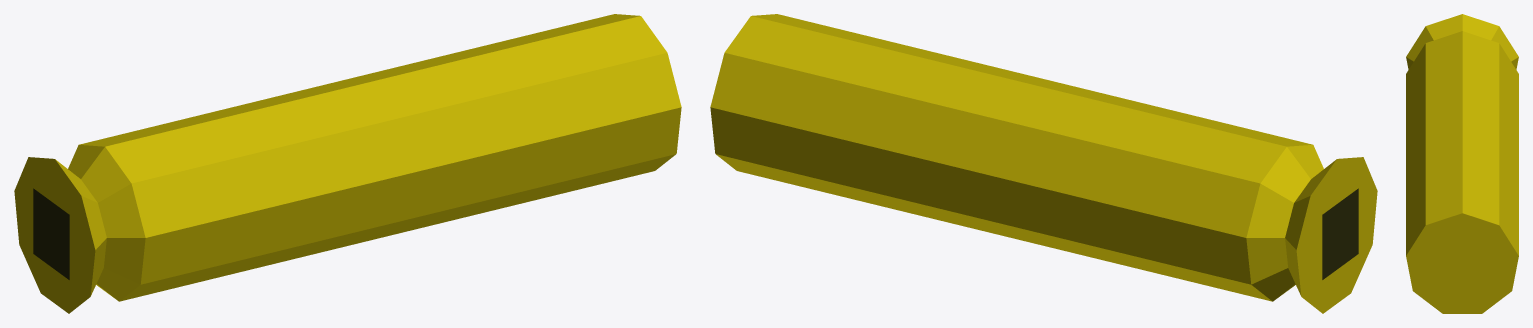
File: 9x19 cartridge.obj
3 views of the same model, side by side, from view 1: azimuth 30°, elevation 25°; view 2: azimuth 150°, elevation 25°; view 3: azimuth 270°, elevation 25° (orthographic). The views are drawn at different scales.
Parts seen in each view (by area): view 1: Cylinder_Cylinder.001, Plane; view 2: Cylinder_Cylinder.001, Plane; view 3: Cylinder_Cylinder.001.
Part boxes in pixels (x1,y1,x2,y2): Cylinder_Cylinder.001: [14, 14, 681, 313]; Plane: [33, 188, 69, 279]; Cylinder_Cylinder.001: [710, 14, 1377, 313]; Plane: [1322, 188, 1358, 279]; Cylinder_Cylinder.001: [1406, 14, 1518, 313].
Size of the model in its own units: 0.1041 by 0.0244 by 0.0248.
